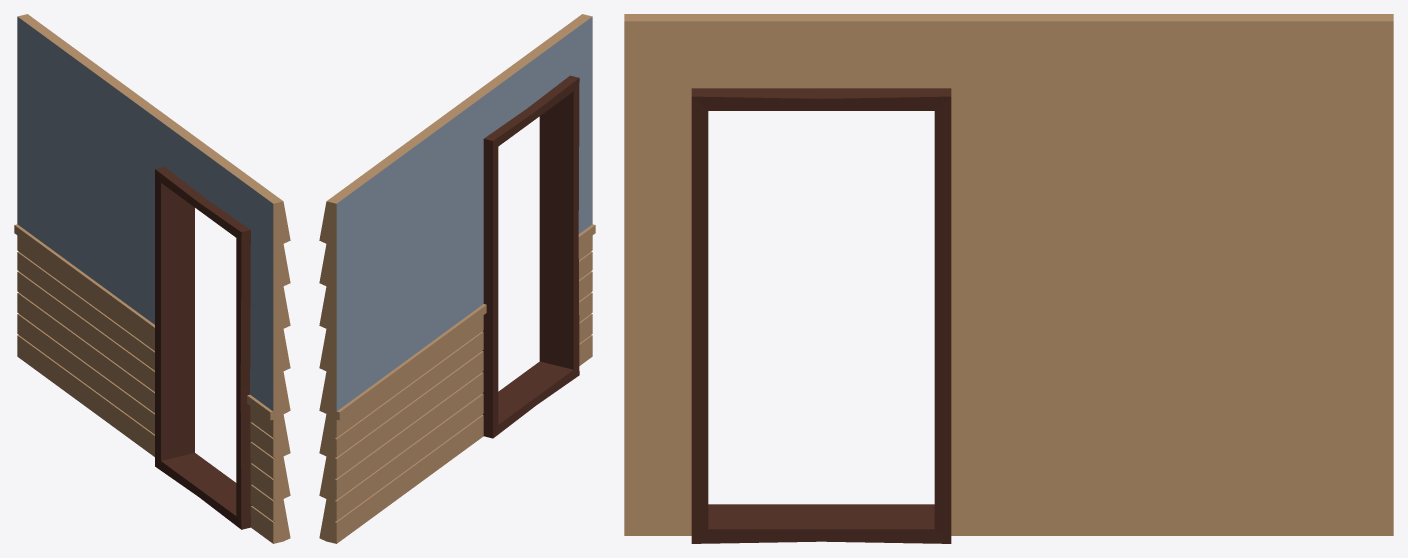
File: Wall Door E.glb
3 renders of one model, left to right at view 1: azimuth 30°, elevation 25°; view 2: azimuth 150°, elevation 25°; view 3: azimuth 270°, elevation 25°, orthographic. The views are drawn at different scales.
Visible parts, largest first — view 1: Wall Door E; view 2: Wall Door E; view 3: Wall Door E.
Boxes of the visible parts, bbox=[...] form: Wall Door E: bbox=[14, 14, 290, 543]; Wall Door E: bbox=[319, 14, 595, 543]; Wall Door E: bbox=[624, 14, 1393, 543].
Bounding box in the file's own units: 23.39 × 220 × 300.
